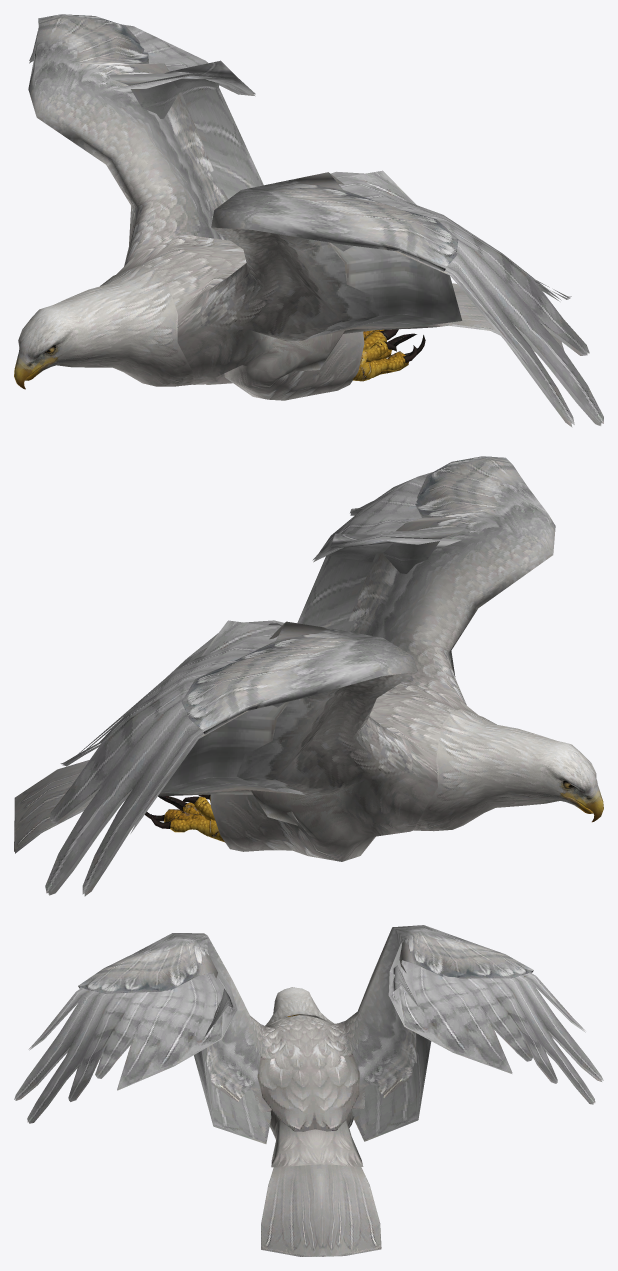
File: Eagle.fbx
The picture shows the model from 3 angles, top to bottom: view 1: azimuth 30°, elevation 25°; view 2: azimuth 150°, elevation 25°; view 3: azimuth 270°, elevation 25°; orthographic projection. The views are drawn at different scales.
Parts seen in each view (by area): view 1: White_Eagle2; view 2: White_Eagle2; view 3: White_Eagle2.
Part boxes in pixels (x1=…): White_Eagle2: x1=14, y1=14, x2=603, y2=427; White_Eagle2: x1=14, y1=456, x2=603, y2=896; White_Eagle2: x1=14, y1=925, x2=603, y2=1256.
Bounding box in the file's own units: 70.83 × 38.32 × 99.86.
Materials: 1 (1 with a texture image).
